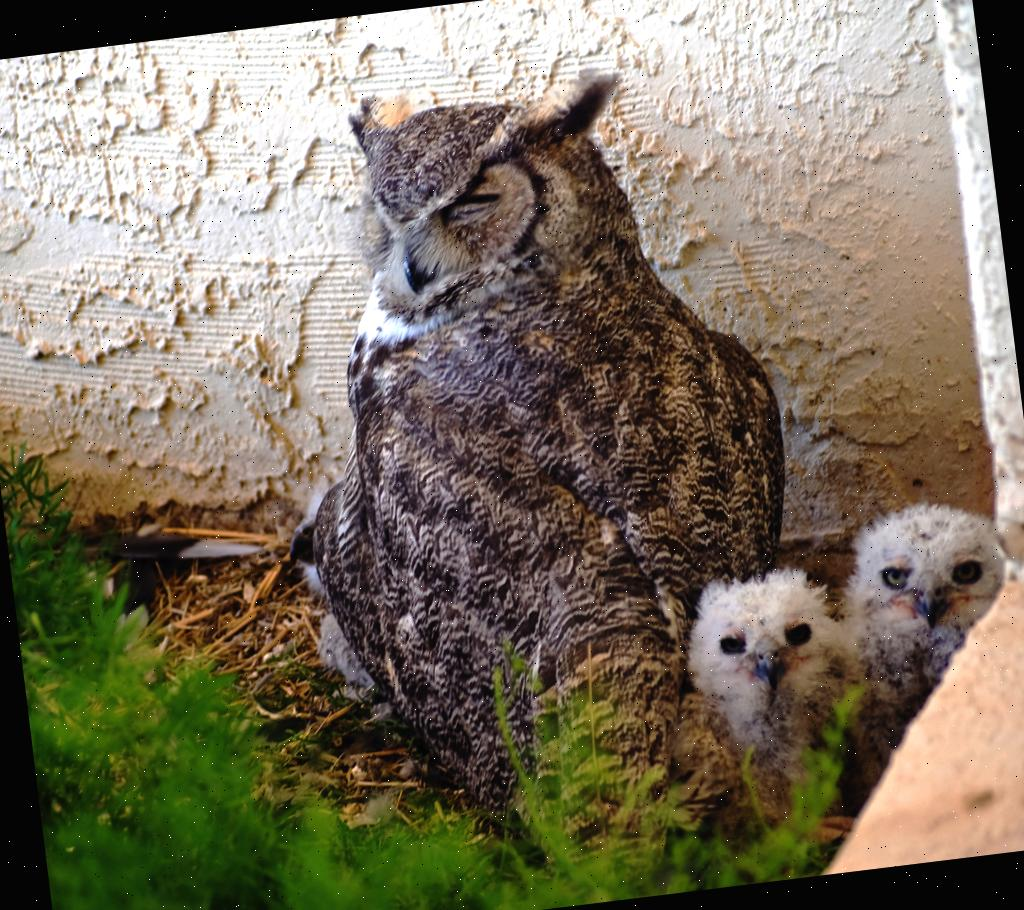Owl: (256, 51, 838, 901), (832, 493, 1024, 758), (674, 563, 873, 812)
